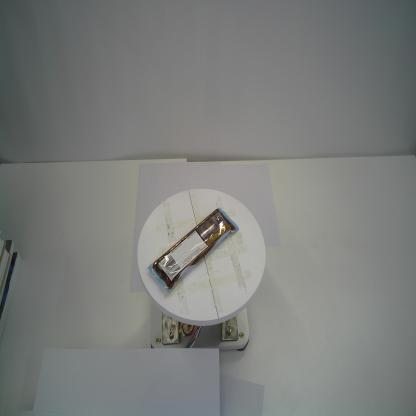Chocolate: (148, 207, 239, 292)
